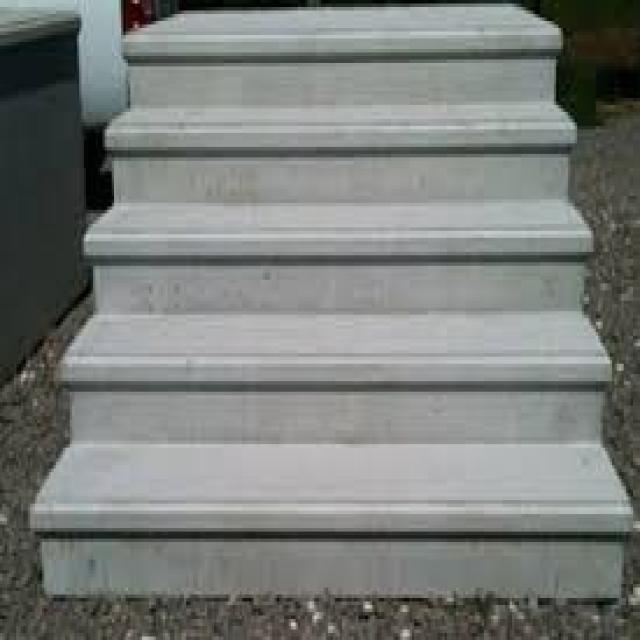upstair: (27, 1, 630, 592)
